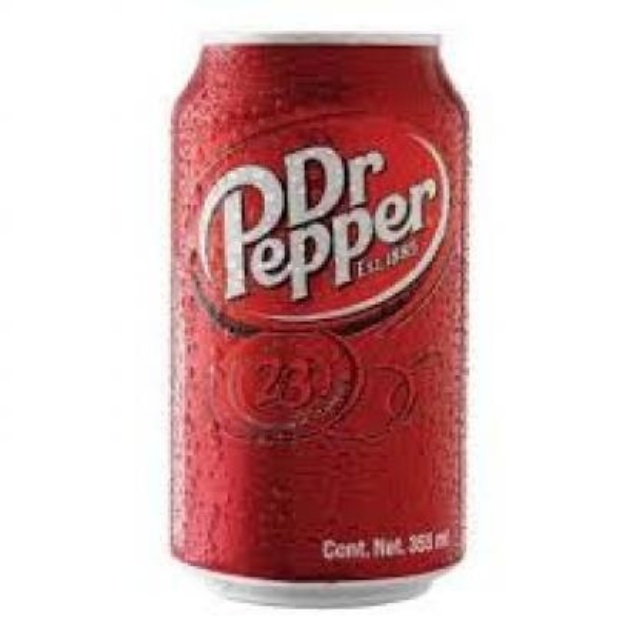trash: (172, 38, 466, 578)
